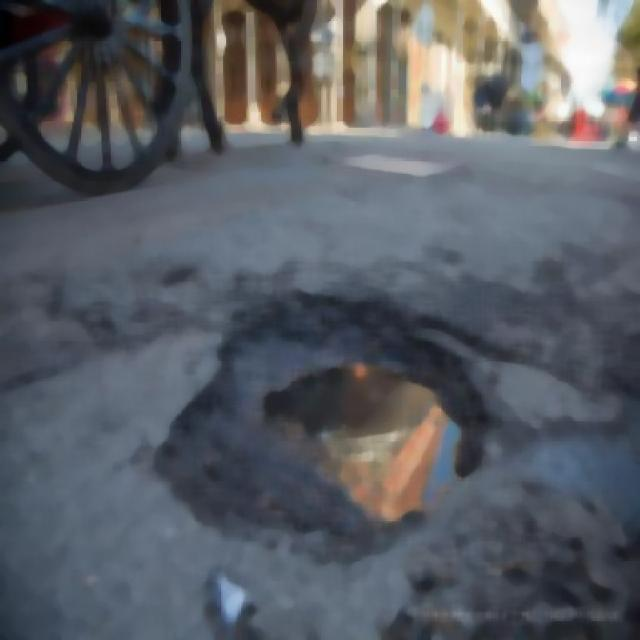Pothole: (155, 291, 488, 558)
